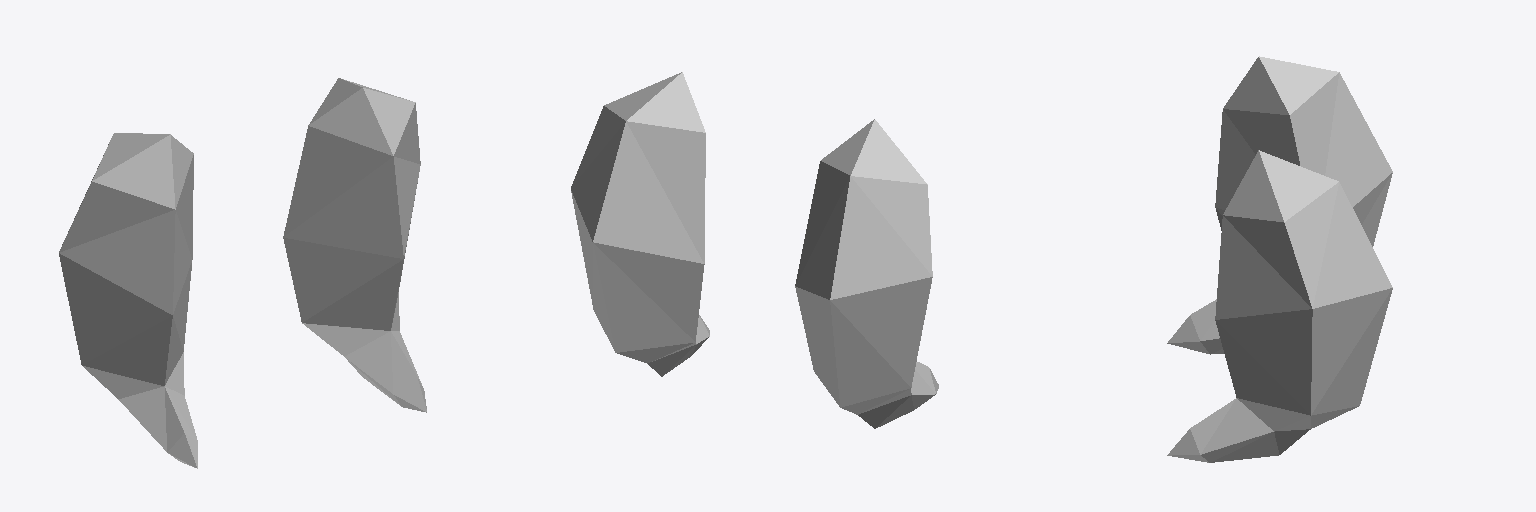
Rendered from legUL.obj.
The picture shows the model from 3 angles: view 1: azimuth 30°, elevation 25°; view 2: azimuth 150°, elevation 25°; view 3: azimuth 270°, elevation 25°; orthographic projection.
Parts seen in each view (by area): view 1: legU legU_matMain; view 2: legU legU_matMain, legU_matBody0 legU; view 3: legU legU_matMain, legU_matBody0 legU.
Part boxes in pixels (left/top/right/bottom): legU legU_matMain: left=59, top=78, right=426, bottom=468; legU legU_matMain: left=571, top=72, right=938, bottom=428; legU_matBody0 legU: left=571, top=122, right=932, bottom=299; legU legU_matMain: left=1167, top=56, right=1392, bottom=462; legU_matBody0 legU: left=1313, top=72, right=1392, bottom=308.
Bounding box in the file's own units: 1.15 × 0.9245 × 0.6201.